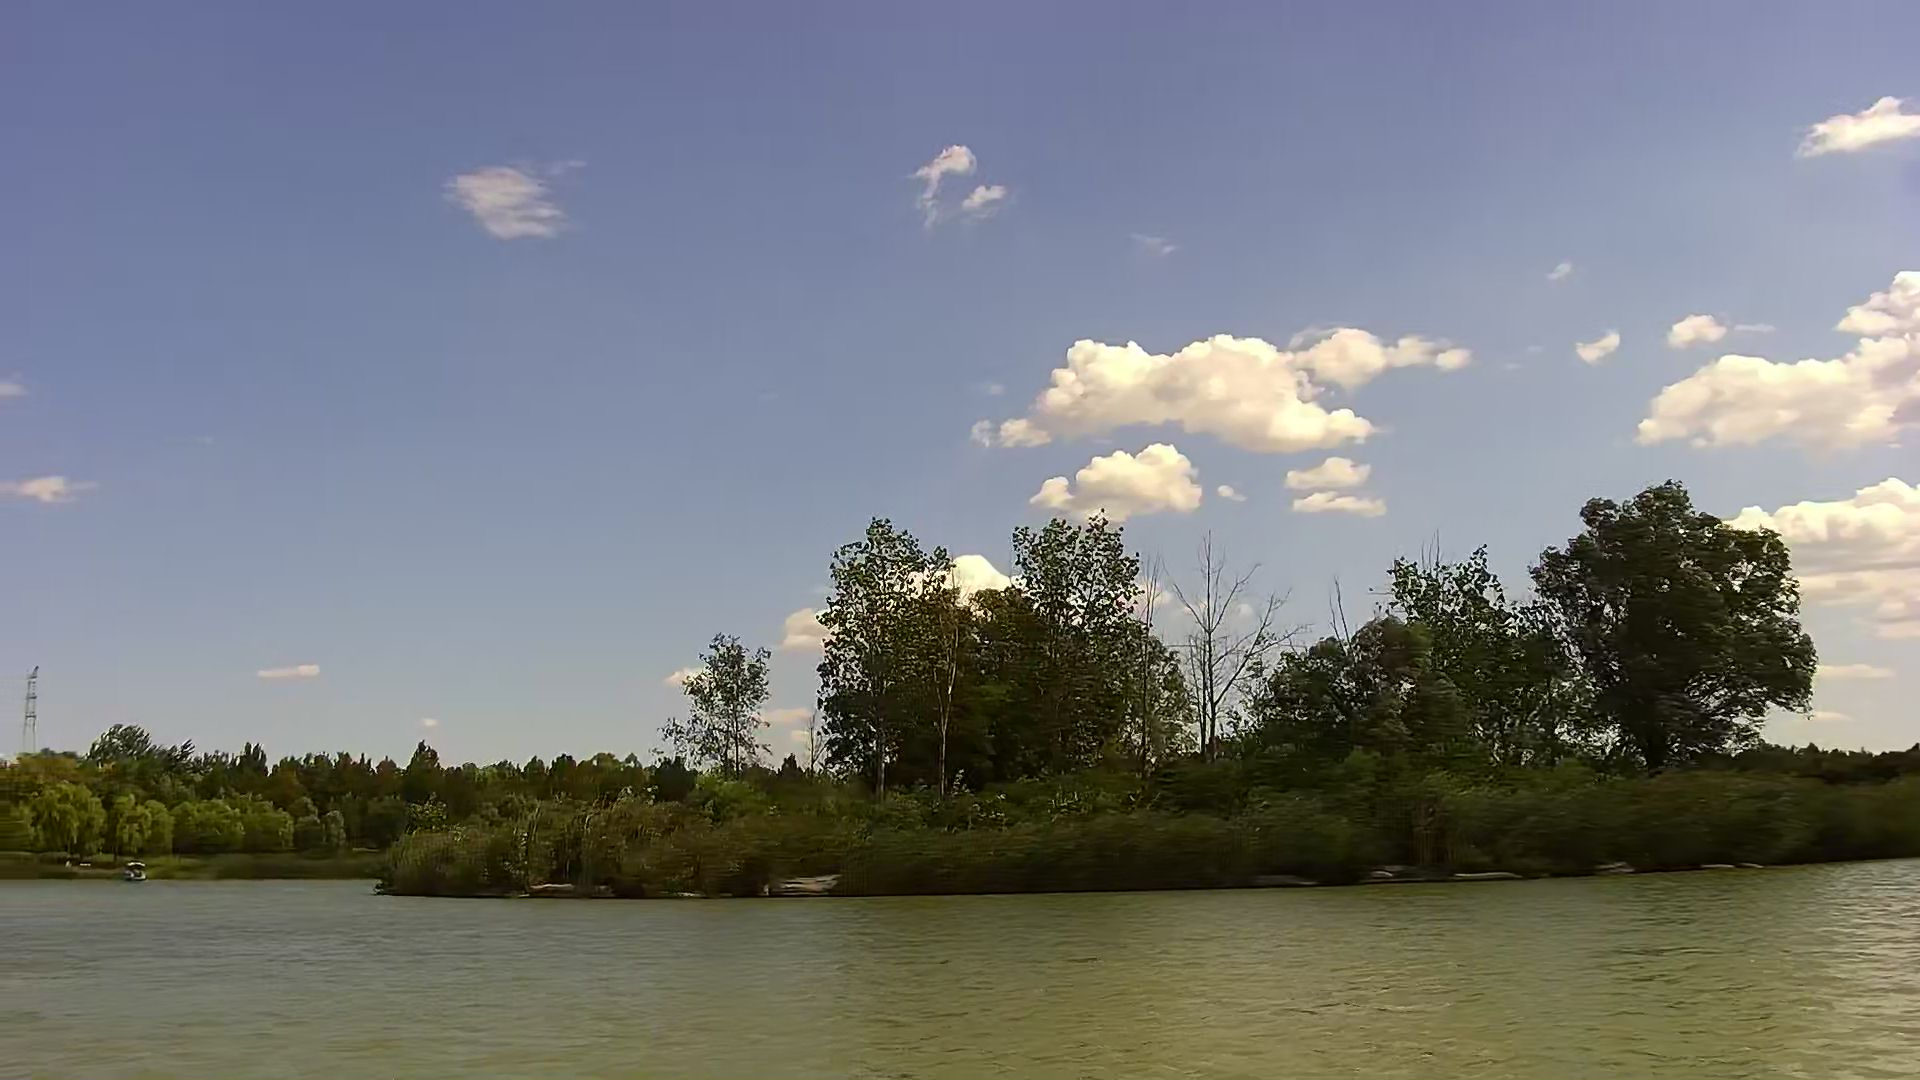rock: (765, 874, 840, 897), (520, 881, 592, 897)
